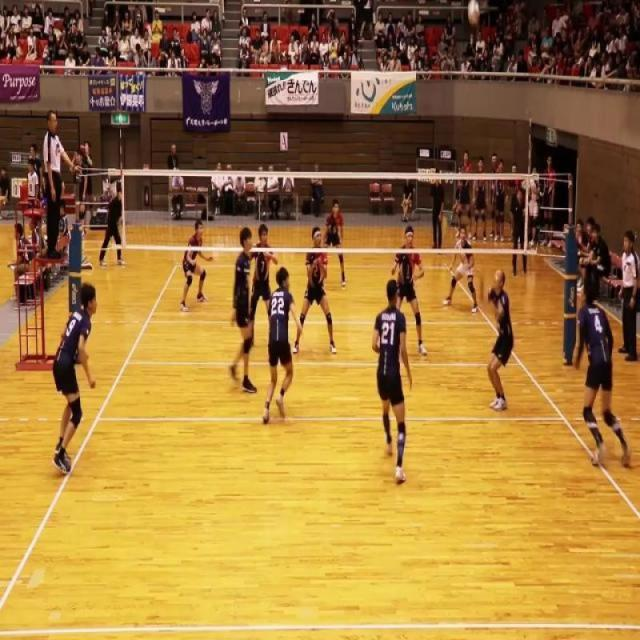volleyball: (467, 0, 480, 28)
